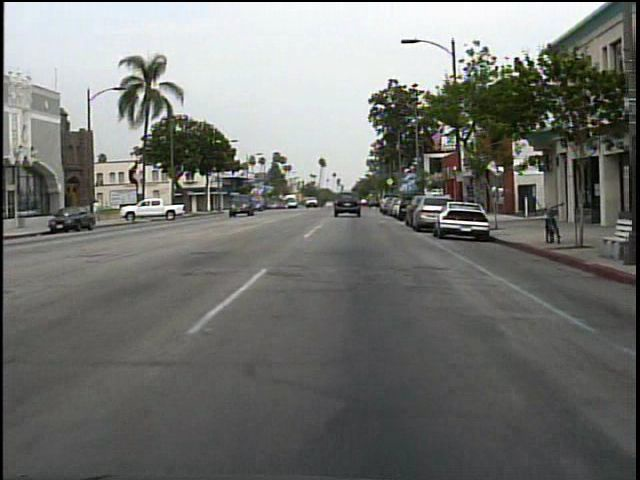person: (368, 189, 391, 219), (88, 197, 104, 226)
